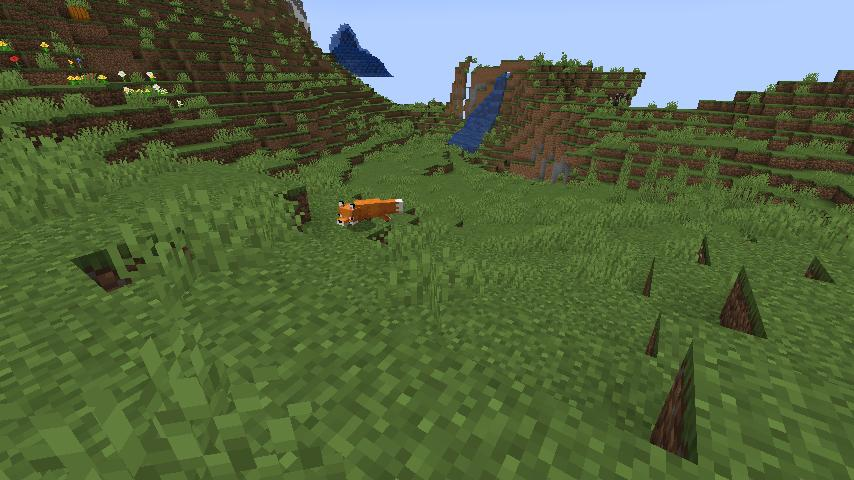cow: (619, 92, 632, 108), (607, 92, 620, 106)
fox: (335, 194, 409, 232)
